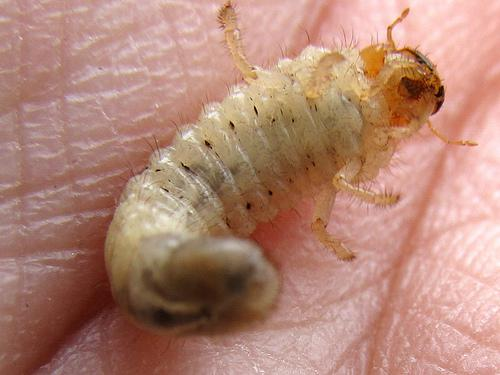grub: (106, 30, 471, 328)
